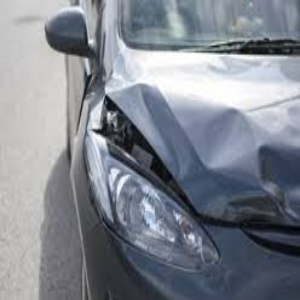bonnet: (135, 58, 300, 185)
